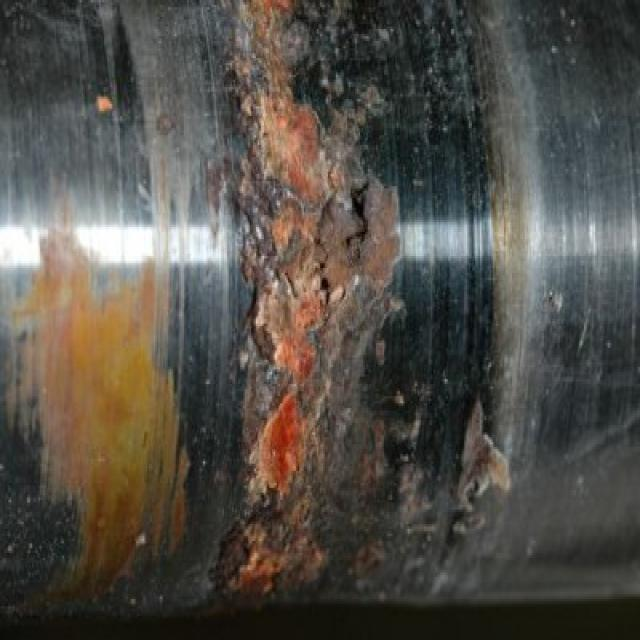Corrosion: (218, 0, 329, 596), (35, 229, 186, 598), (318, 117, 400, 306)
